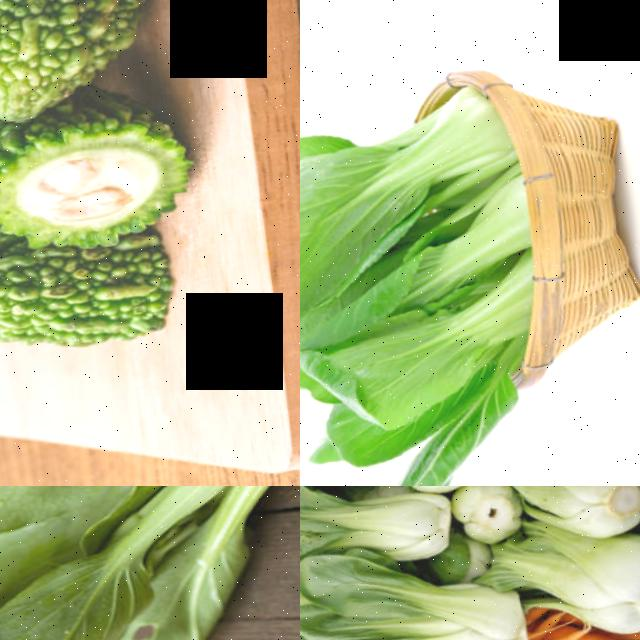bitter gourd: (0, 210, 241, 386), (0, 106, 220, 239), (0, 0, 195, 84)
bok choy: (300, 55, 520, 221), (300, 294, 534, 428), (346, 174, 537, 283), (300, 557, 540, 640), (0, 486, 245, 564), (537, 514, 640, 630), (300, 486, 449, 563), (509, 486, 640, 527)
